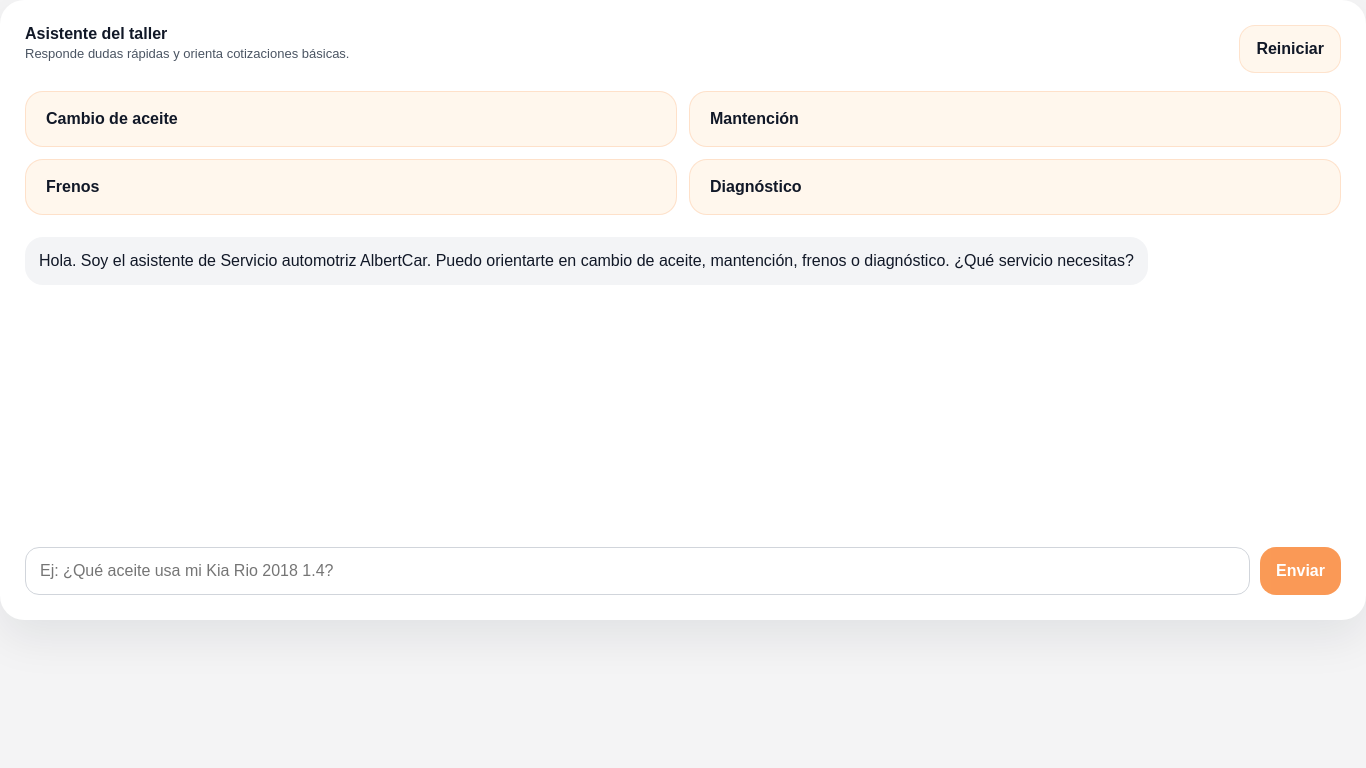
Test: AssistantChat › inicia la conversación, permite elegir cambio de aceite y muestra el formulario
Expected: the text "¿Qué servicio necesitas?" is shown, [39, 252, 1134, 269]
What coordinates should you click on to do the following:
click the button "Cambio de aceite"
I would click on:
 (112, 118)
Its box is [25, 91, 677, 147].
(page scrolled)
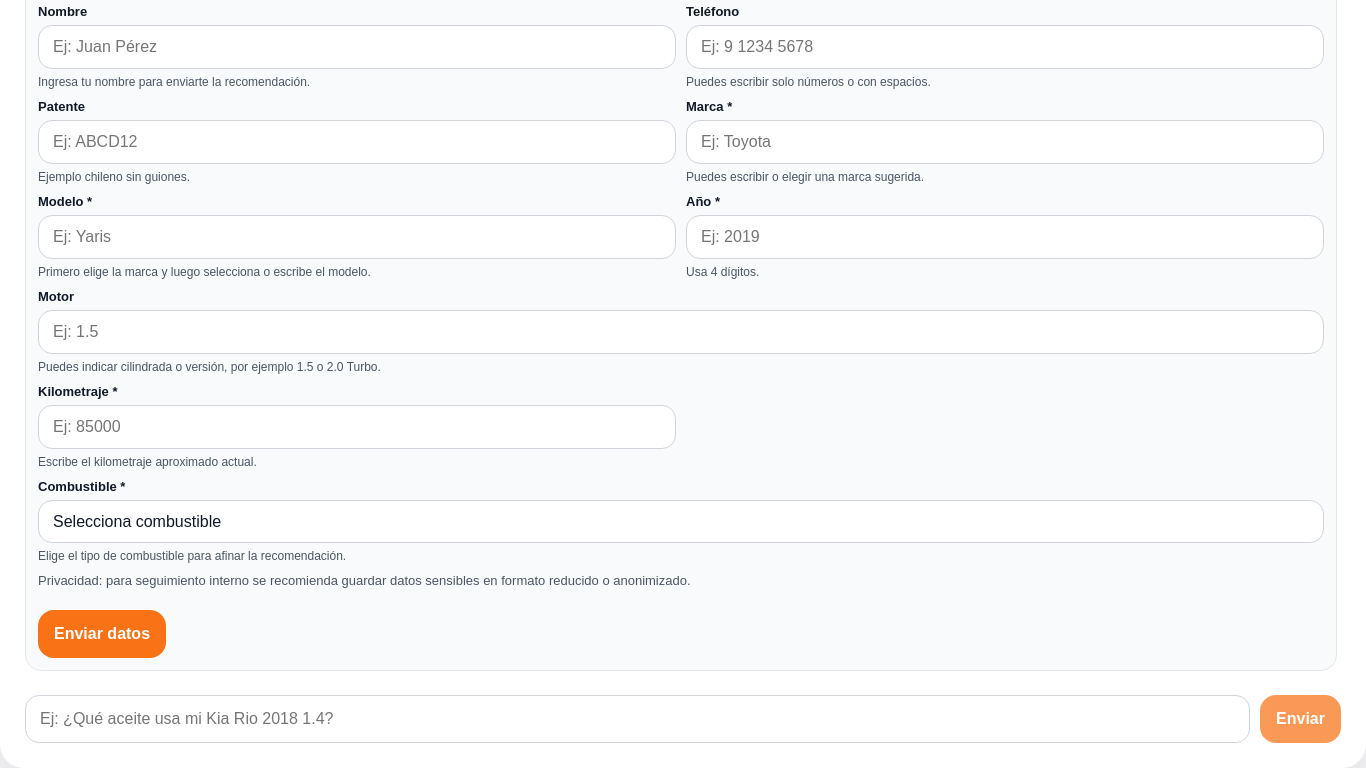
Result: the field labelled "Patente" is shown at [38, 120, 676, 164]
Result: the button "Enviar datos" is shown at [38, 610, 166, 658]
